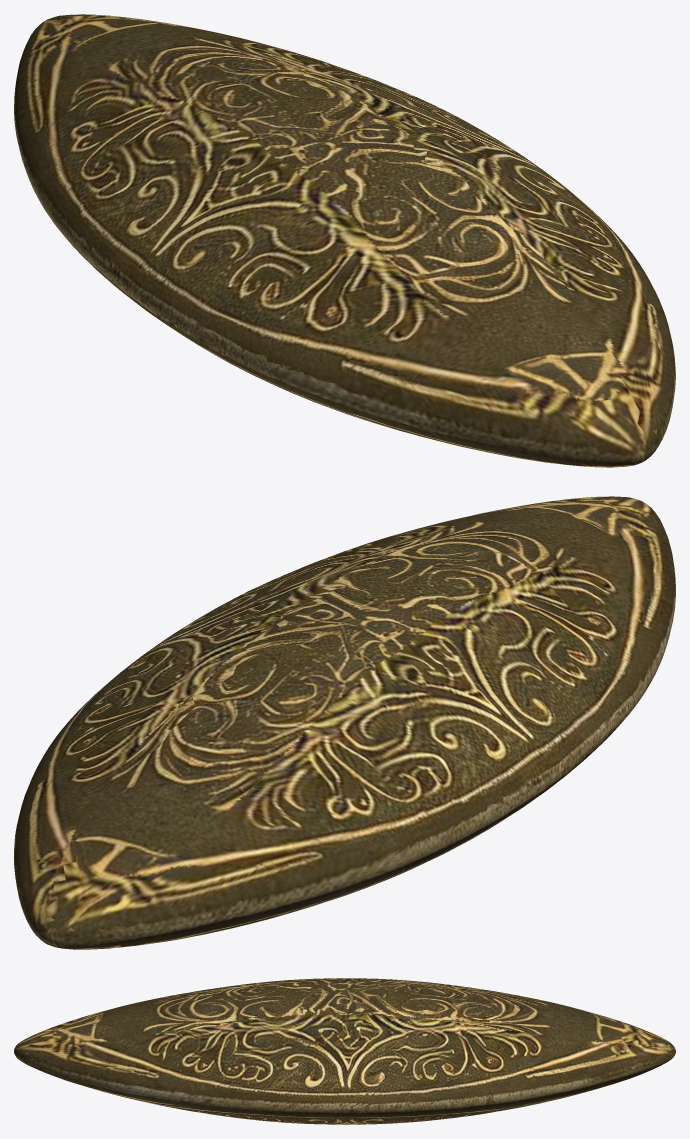
The model's file is piece_light.glb.
The picture shows the model from 3 angles, top to bottom: view 1: azimuth 30°, elevation 25°; view 2: azimuth 150°, elevation 25°; view 3: azimuth 270°, elevation 25°; orthographic projection. The views are drawn at different scales.
Parts seen in each view (by area): view 1: mesh; view 2: mesh; view 3: mesh.
Boxes of the visible parts, x1,y1,x2,y2 form: mesh: (14, 14, 675, 467); mesh: (14, 496, 675, 949); mesh: (14, 978, 675, 1124).
Size of the model in its own units: 0.4145 by 0.1914 by 1.
1 material, 1 textured.
